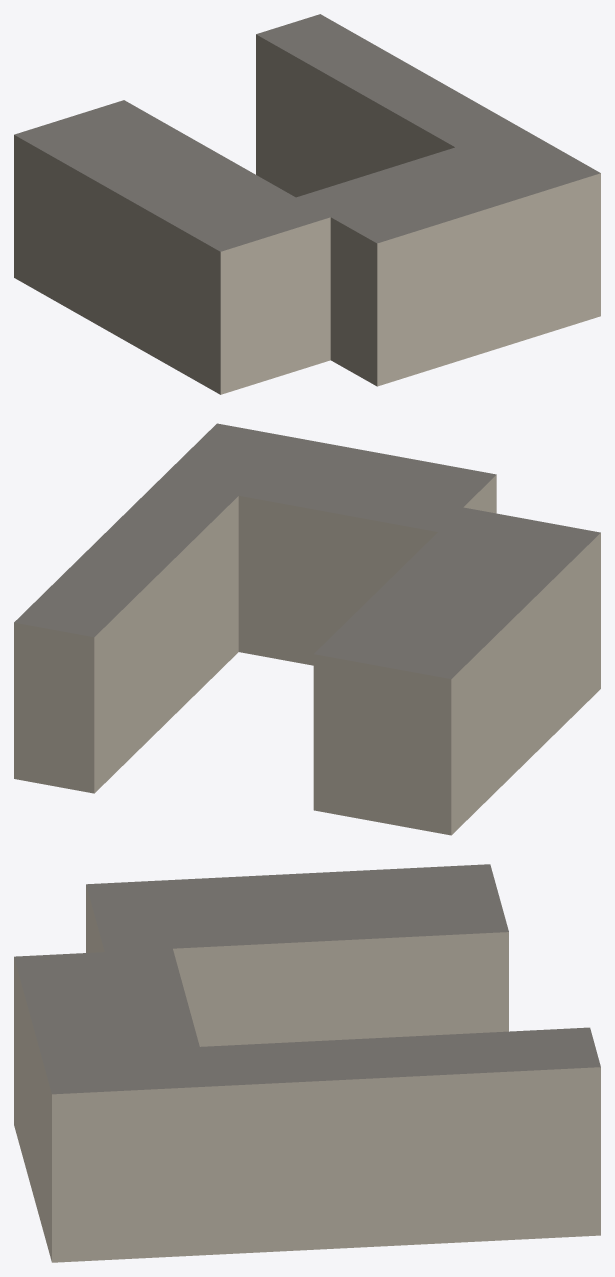
3 views of the same model, one above another, from view 1: azimuth 30°, elevation 25°; view 2: azimuth 150°, elevation 25°; view 3: azimuth 270°, elevation 25° (orthographic). The views are drawn at different scales.
Parts seen in each view (by area): view 1: HP-w859488895; view 2: HP-w859488895; view 3: HP-w859488895.
Part boxes in pixels (x1=…): HP-w859488895: x1=14, y1=14, x2=600, y2=394; HP-w859488895: x1=14, y1=423, x2=600, y2=835; HP-w859488895: x1=14, y1=864, x2=600, y2=1262.
Bounding box in the file's own units: 52.77 × 18 × 56.87.
